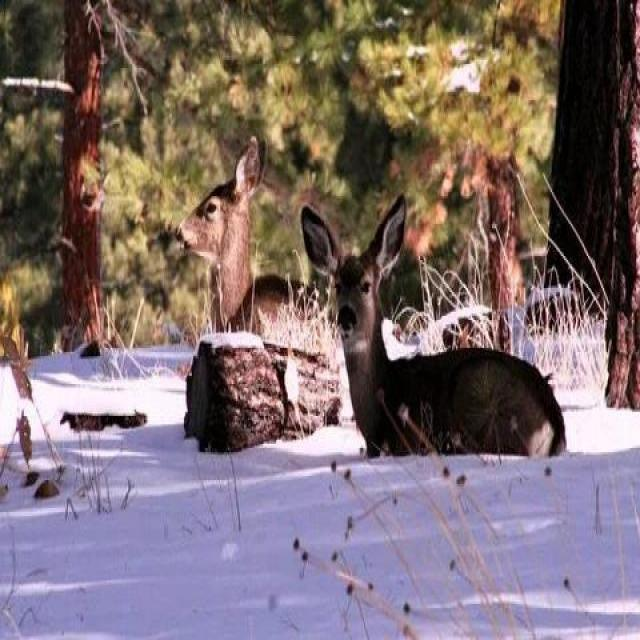deer: (160, 157, 361, 420), (348, 238, 520, 533)
